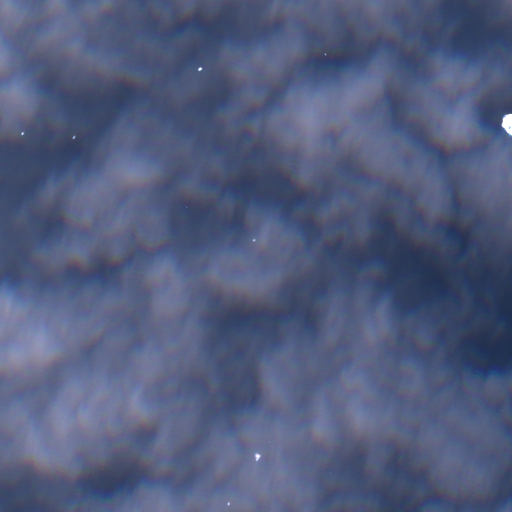Iceberg: (501, 113, 511, 135), (255, 453, 260, 461), (198, 67, 202, 70), (72, 135, 75, 138), (21, 132, 24, 134), (252, 239, 255, 241), (324, 53, 326, 55), (227, 502, 229, 504)
